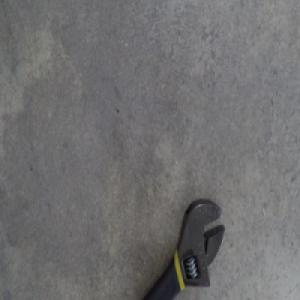AdjustableWrench: (140, 197, 226, 299)
